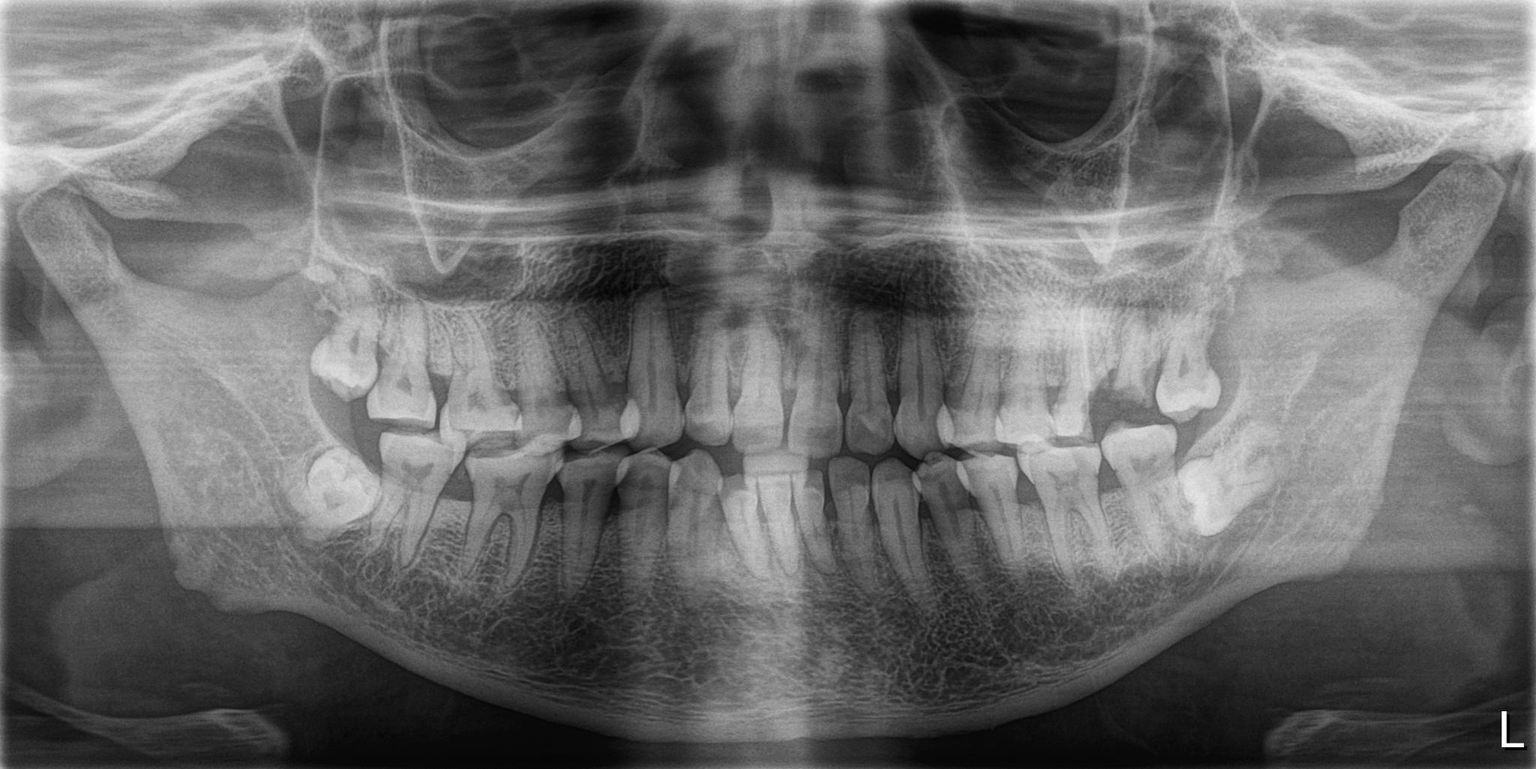Attrition: (463, 428, 566, 480)
Dental Caries: (1086, 368, 1154, 414)
Impacted Third Molar: (276, 433, 379, 523), (1191, 441, 1286, 531)
